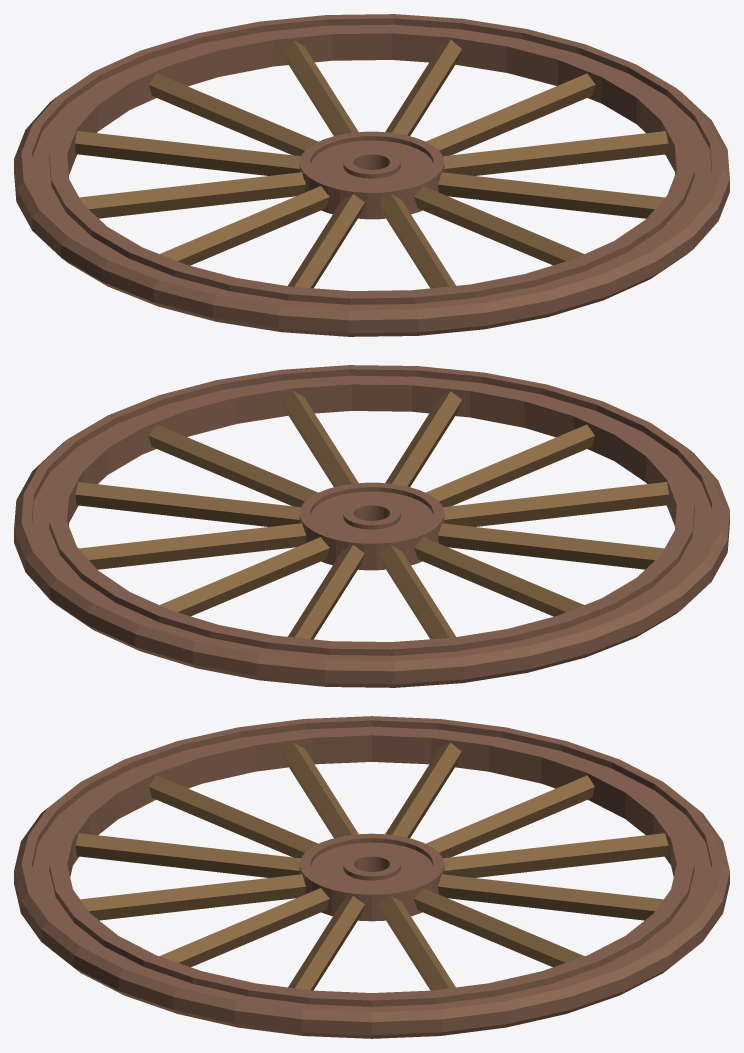
File: WagWh.glb
The picture shows the model from 3 angles, top to bottom: view 1: azimuth 30°, elevation 25°; view 2: azimuth 150°, elevation 25°; view 3: azimuth 270°, elevation 25°; orthographic projection.
Parts seen in each view (by area): view 1: WagWh; view 2: WagWh; view 3: WagWh.
Part boxes in pixels (bbox=[...]): WagWh: bbox=[14, 14, 729, 336]; WagWh: bbox=[14, 365, 729, 687]; WagWh: bbox=[14, 716, 729, 1038].
Size of the model in its own units: 1.83 by 0.0748 by 1.83.
